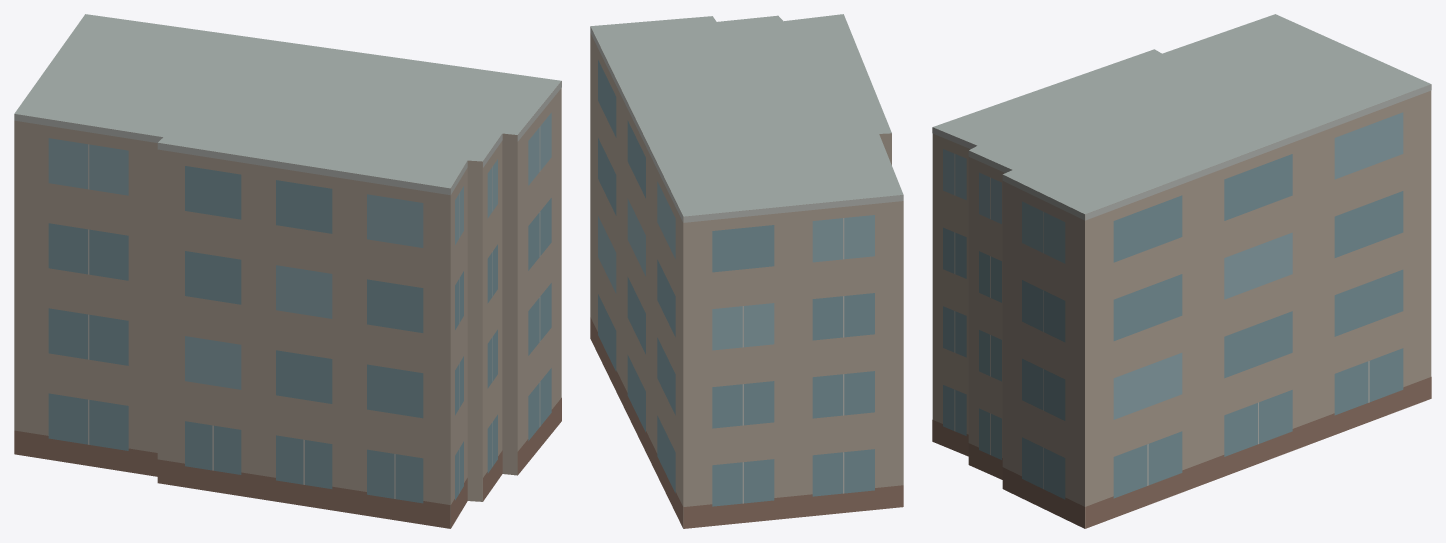
The model's file is survey-upis-32518898.glb.
3 renders of one model, left to right at view 1: azimuth 30°, elevation 25°; view 2: azimuth 150°, elevation 25°; view 3: azimuth 270°, elevation 25°, orthographic. The views are drawn at different scales.
Visible parts, largest first — view 1: survey-upis-32518898.tmp; view 2: survey-upis-32518898.tmp; view 3: survey-upis-32518898.tmp.
Part boxes in pixels (x1,y1,x2,y2): survey-upis-32518898.tmp: (14, 14, 561, 528); survey-upis-32518898.tmp: (590, 14, 903, 528); survey-upis-32518898.tmp: (932, 14, 1431, 528).
Bounding box in the file's own units: 16.68 × 12.2 × 17.55.
